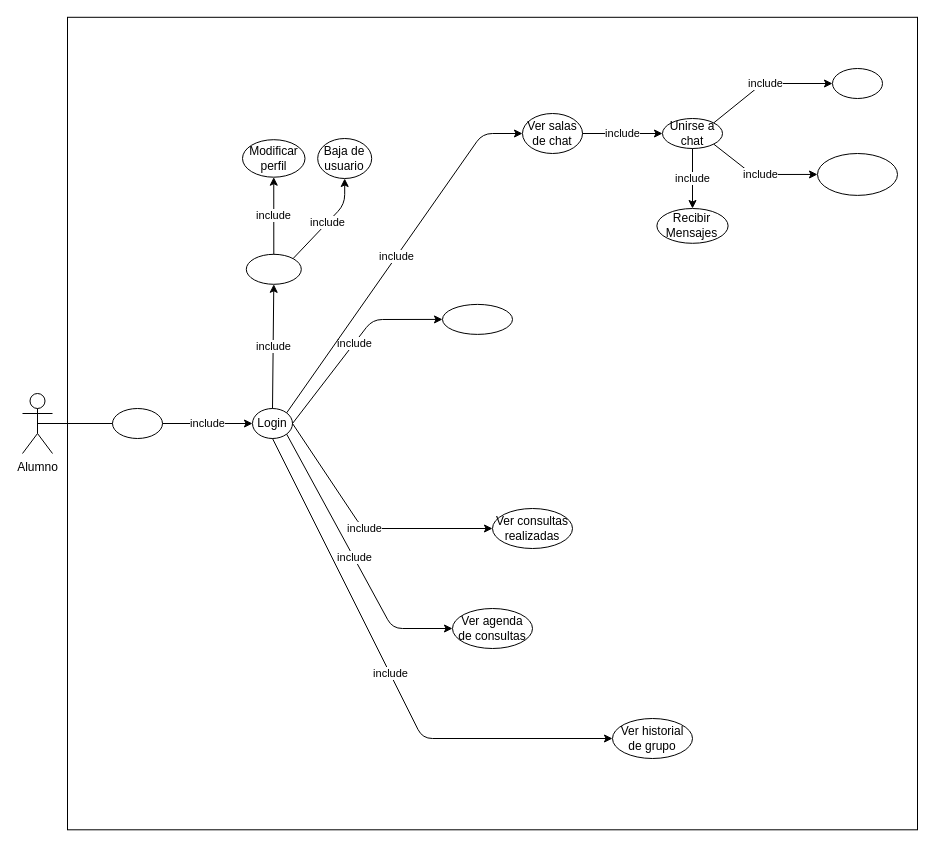
Image size: 935x848. Some labels were removed from this diagram. The shapes that lost their labels are listed below. From the top down, each one's centre as x and y in pixels, then its label:
(857,83): Cerrar chat
(857,173): Envío de mensajes
(273,268): Ver perfil
(477,318): Realizar consulta
(137,423): Registro
